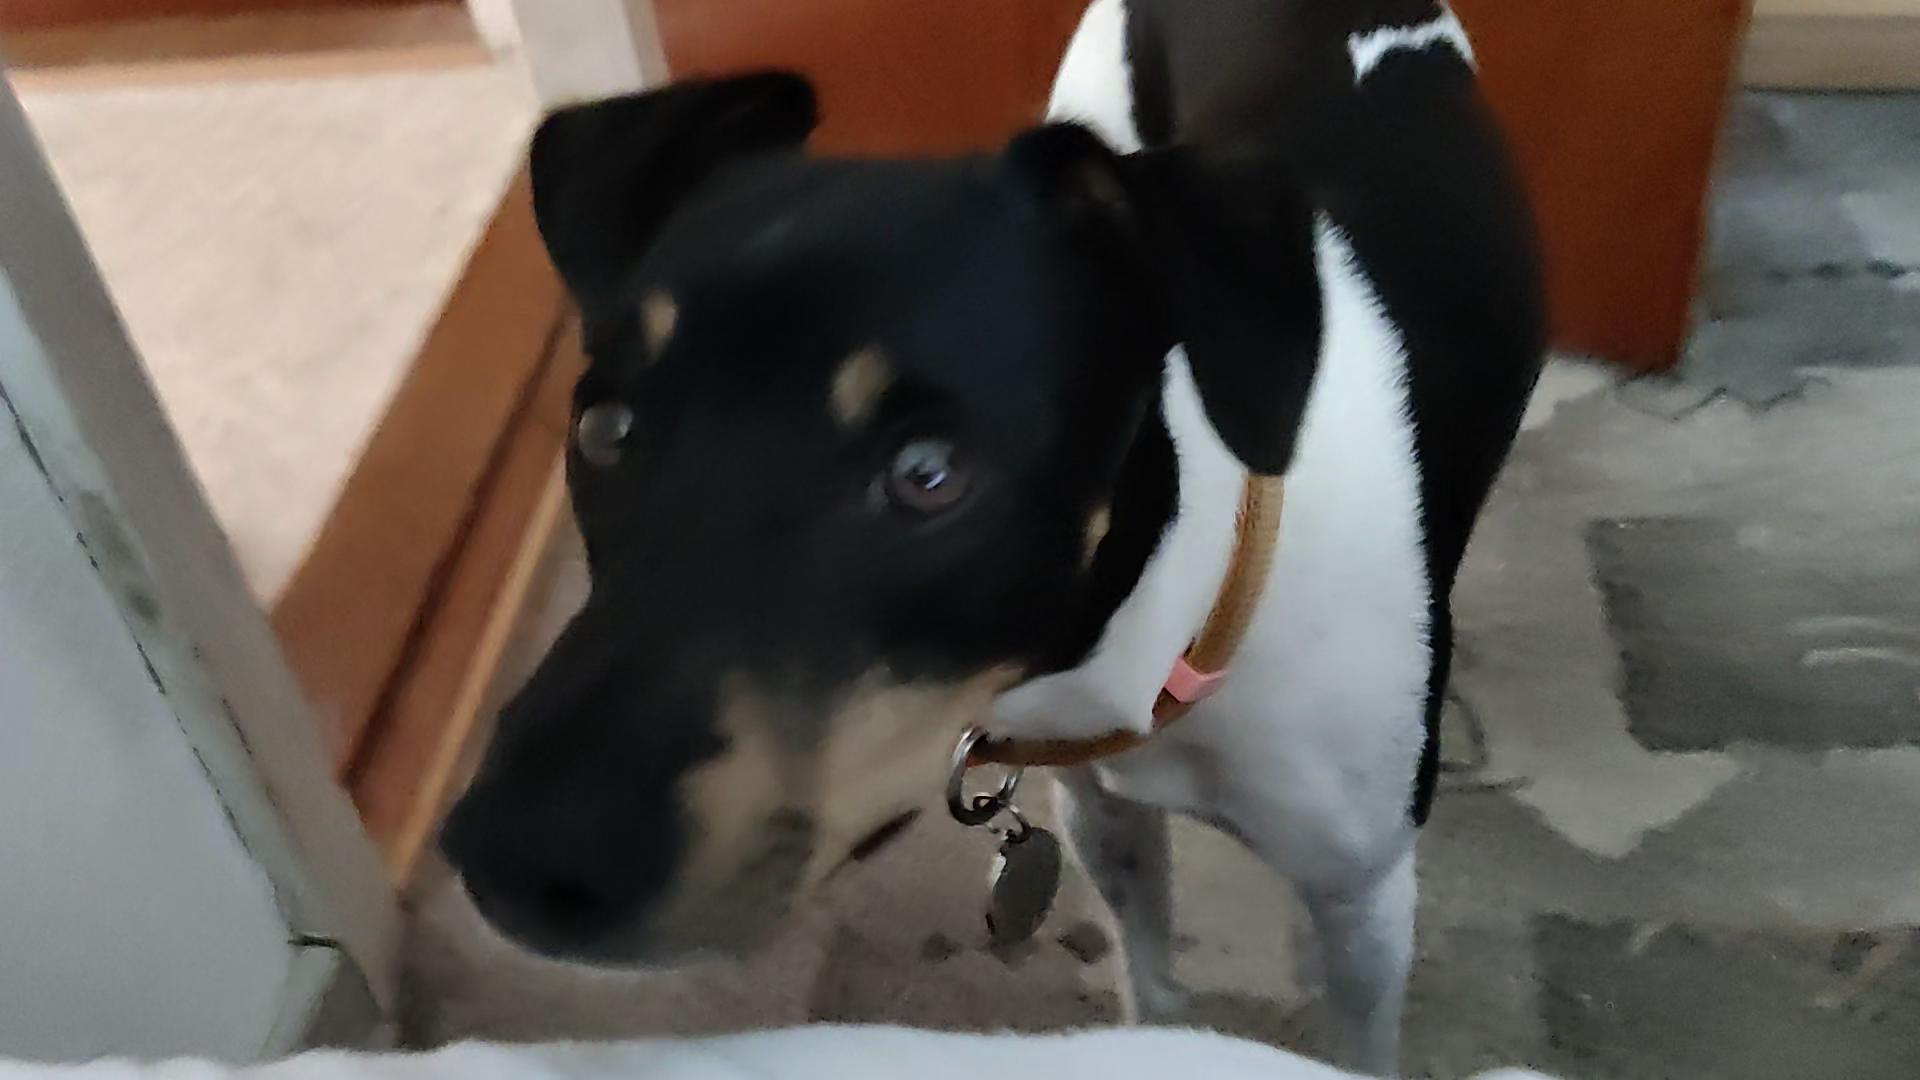Dog: (425, 0, 1564, 1079)
